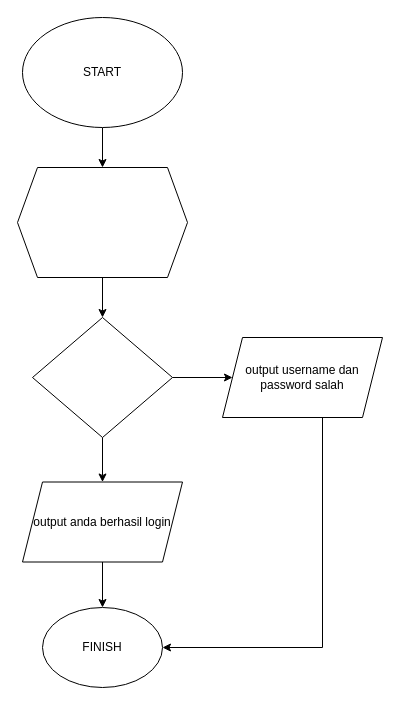
Some shapes in this 400 by 705 pixel diagram are drawn without their labels. Each missing label, with the centre of its shape:
"input username and password" goes at point (102, 377).
"String username, password" goes at point (102, 222).
